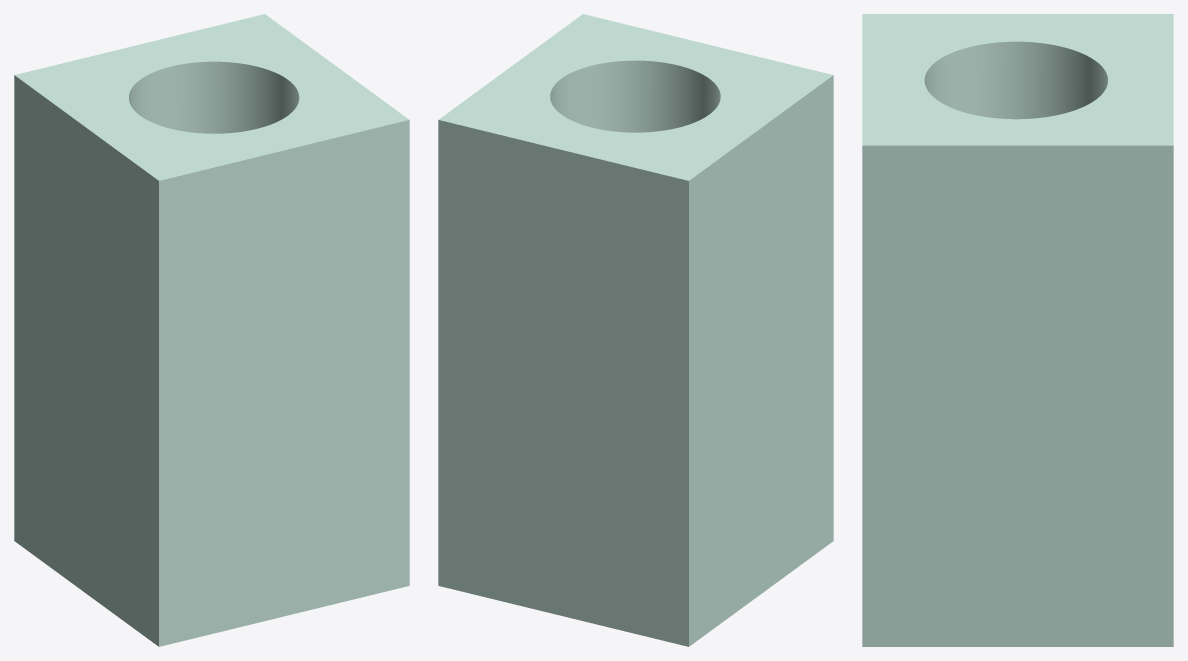
The picture shows the model from 3 angles, left to right: view 1: azimuth 30°, elevation 25°; view 2: azimuth 150°, elevation 25°; view 3: azimuth 270°, elevation 25°; orthographic projection. The views are drawn at different scales.
Visible parts, largest first — view 1: Renderer Node; view 2: Renderer Node; view 3: Renderer Node.
Part boxes in pixels (x1,y1,x2,y2): Renderer Node: (14,14,409,646); Renderer Node: (438,14,833,646); Renderer Node: (862,14,1173,646).
Bounding box in the file's own units: 0.4219 × 0.75 × 0.4219.
